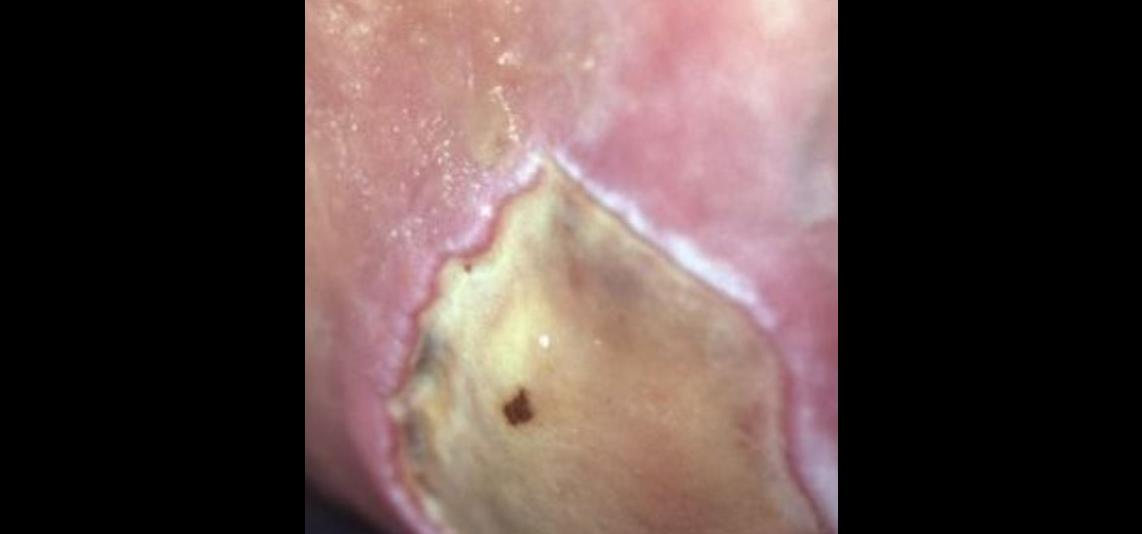Stage2: (374, 133, 807, 534)
